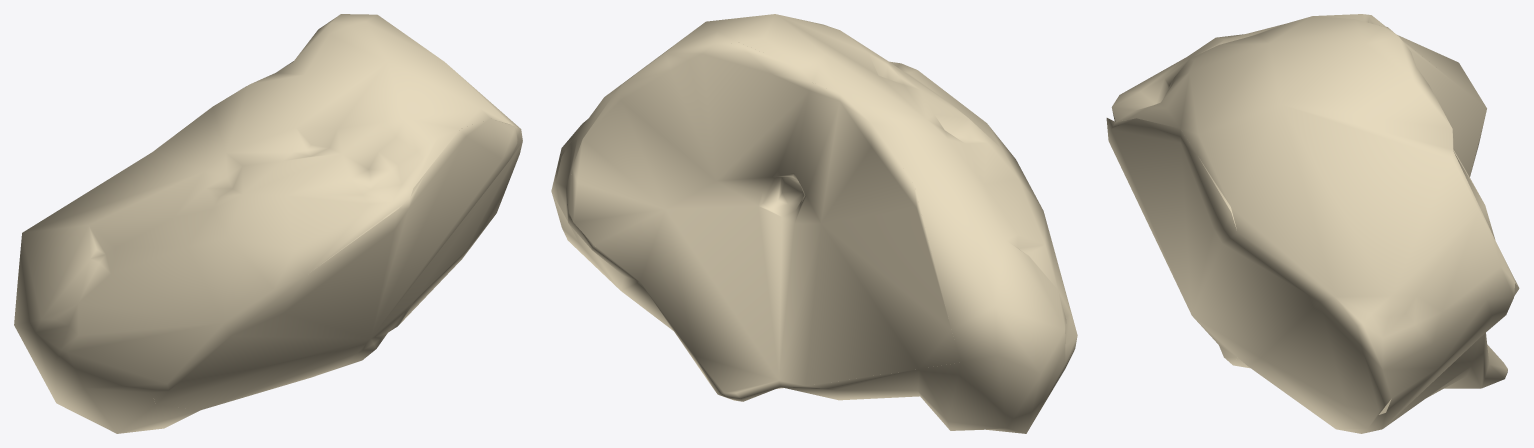
The model's file is esqueleto-navicular-bone-l.glb.
The picture shows the model from 3 angles, left to right: view 1: azimuth 30°, elevation 25°; view 2: azimuth 150°, elevation 25°; view 3: azimuth 270°, elevation 25°; orthographic projection. The views are drawn at different scales.
Visible parts, largest first — view 1: Navicular bone.l; view 2: Navicular bone.l; view 3: Navicular bone.l.
Part boxes in pixels (x1,y1,x2,y2): Navicular bone.l: [14, 14, 522, 433]; Navicular bone.l: [551, 14, 1077, 433]; Navicular bone.l: [1106, 14, 1519, 433].
Bounding box in the file's own units: 0.0407 × 0.0275 × 0.024.
